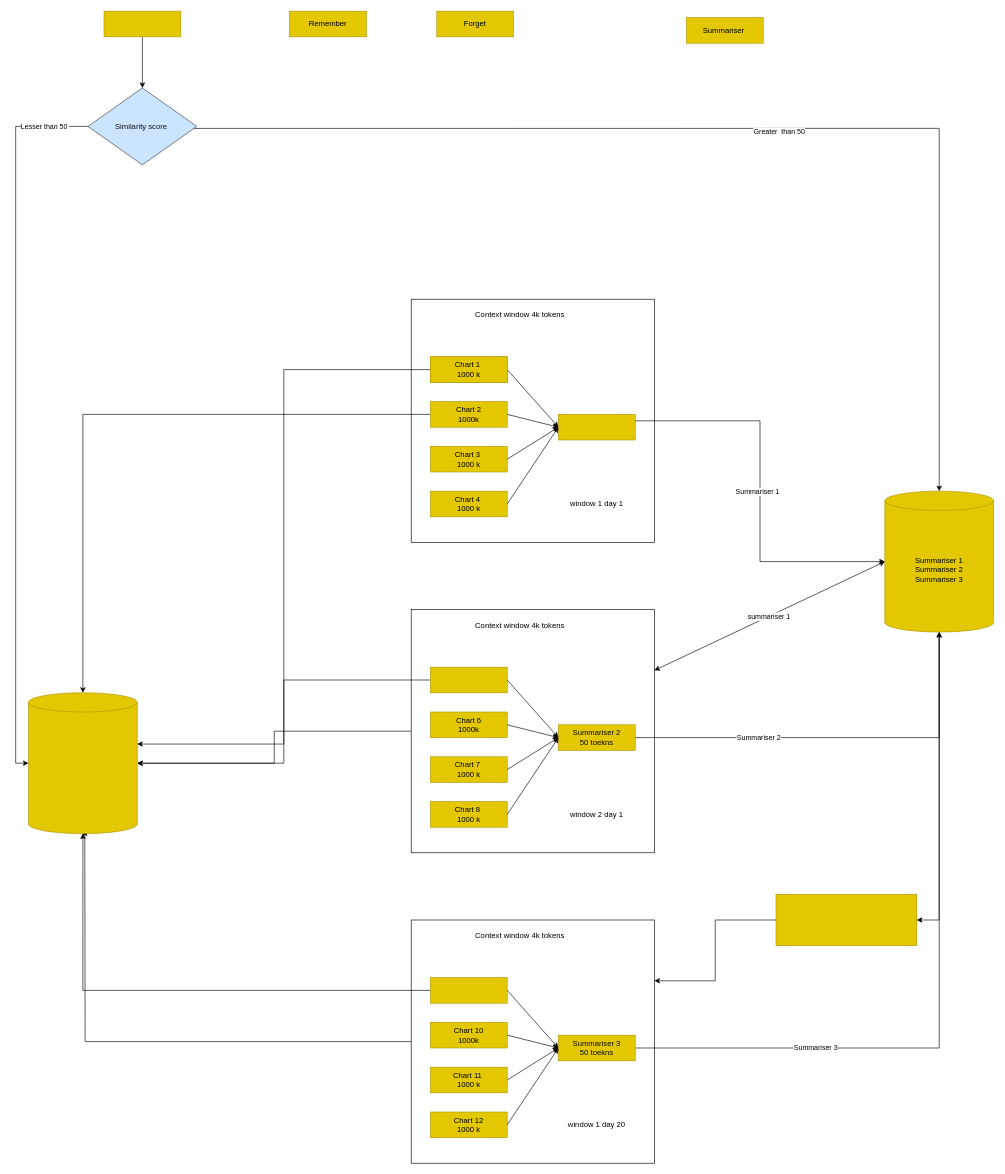
Some shapes in this 1005 by 1174 pixel diagram are drawn without their labels. The centre of each missing label's shape, as x and y in pixels:
Chart 1 ........ chart 3 chart 12: [82,763]
Chart 5 1000 k: [468,680]
Chart 9 1000 k: [468,990]
Recall: [142,24]
Summariser 1 + Summariser 2 100 toekns: [846,920]
Summariser 1 50 toekns: [596,427]
